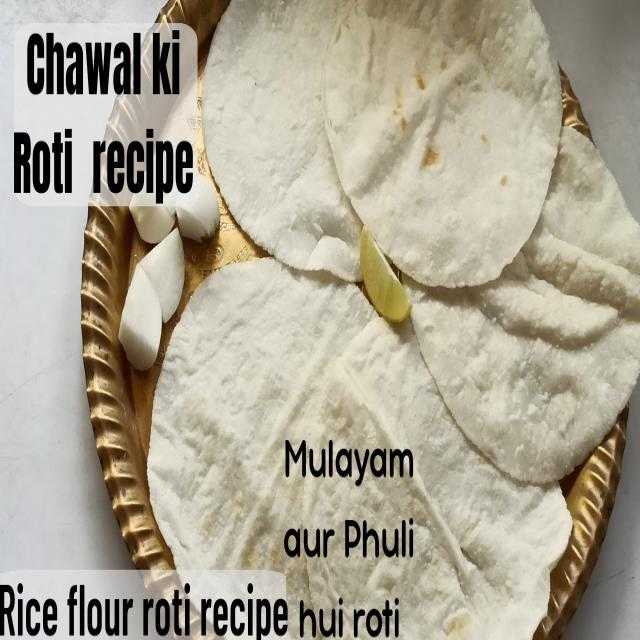ROTI: (406, 119, 640, 481), (331, 316, 571, 637), (322, 0, 560, 286), (148, 260, 371, 565), (202, 0, 360, 279)
